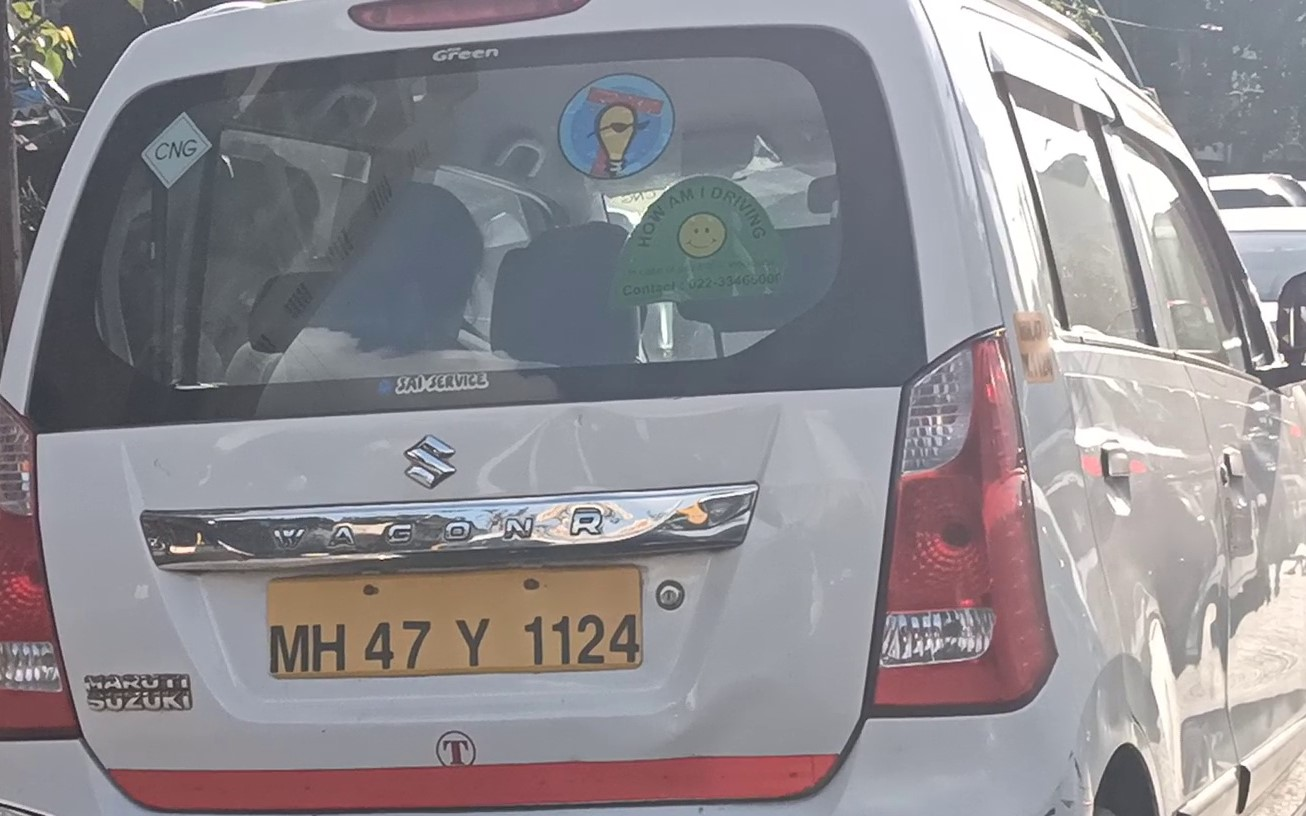MH47Y1124: (266, 568, 646, 676)
